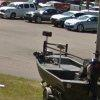Boat: (31, 29, 98, 99)
